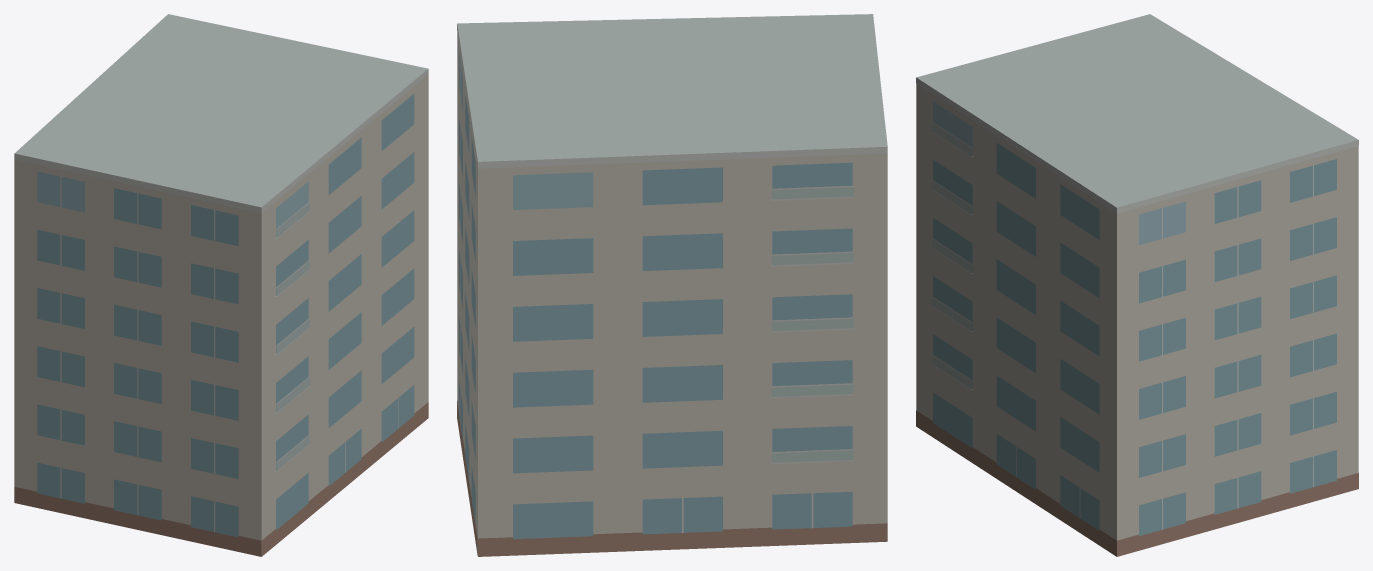
The model's file is survey-upis-32949428.glb.
3 renders of one model, left to right at view 1: azimuth 30°, elevation 25°; view 2: azimuth 150°, elevation 25°; view 3: azimuth 270°, elevation 25°, orthographic. The views are drawn at different scales.
Visible parts, largest first — view 1: survey-upis-32949428.tmp; view 2: survey-upis-32949428.tmp; view 3: survey-upis-32949428.tmp.
Part boxes in pixels (x1,y1,x2,y2): survey-upis-32949428.tmp: (14,14,428,556); survey-upis-32949428.tmp: (457,14,887,556); survey-upis-32949428.tmp: (916,14,1358,556).
Size of the model in its own units: 17.39 by 14.6 by 16.78.
